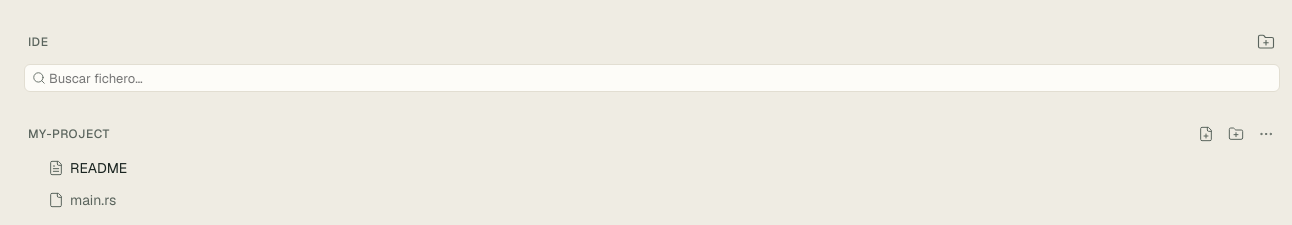
Test: IdeTree › TC-09: rename shows inline rename input
Right-click the element with test id "ide-node-README.md": (88, 168) [48,159,127,177]
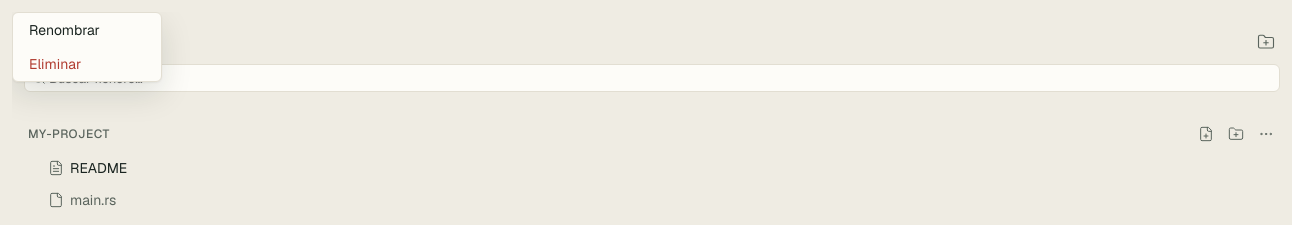
Now the button with test id "ide-context-rename" is shown
Click the button with test id "ide-context-rename": click(87, 30) [13,13,161,47]
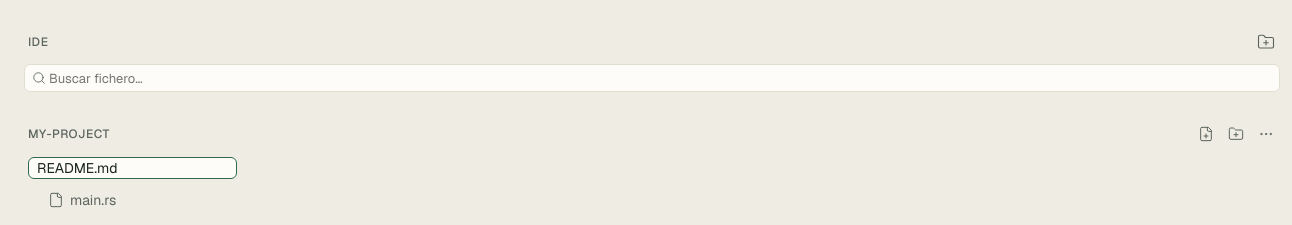
Now the field with test id "ide-rename-input" is shown, box [28,157,237,179]
